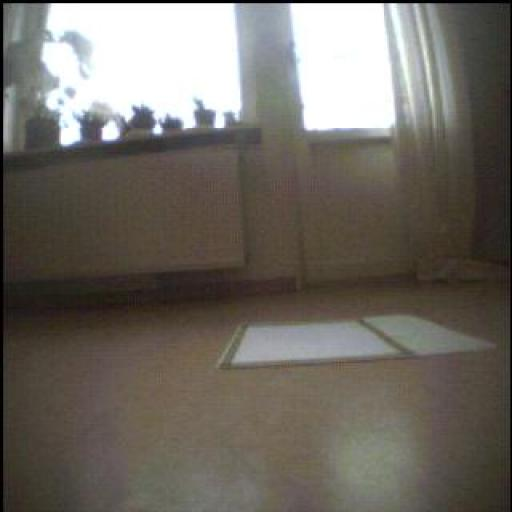Pad: (221, 316, 496, 369)
